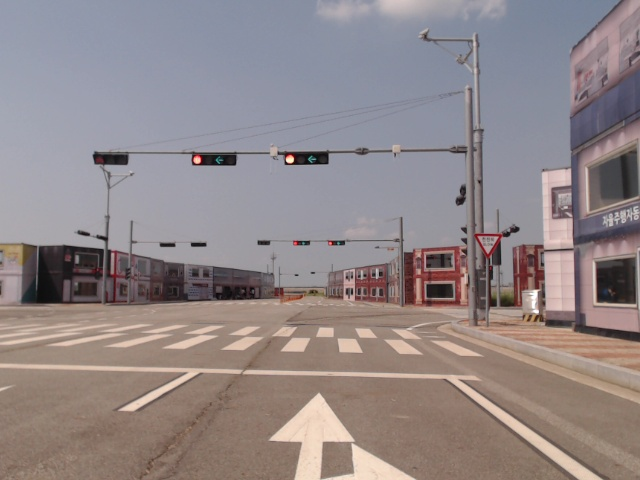left_green_4: (285, 153, 329, 165), (193, 154, 236, 165), (293, 241, 310, 245), (329, 241, 346, 245)
